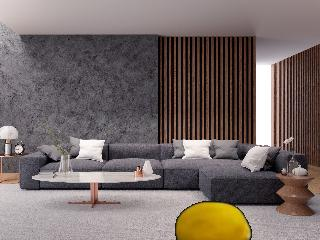lemon: (177, 203, 252, 240)
